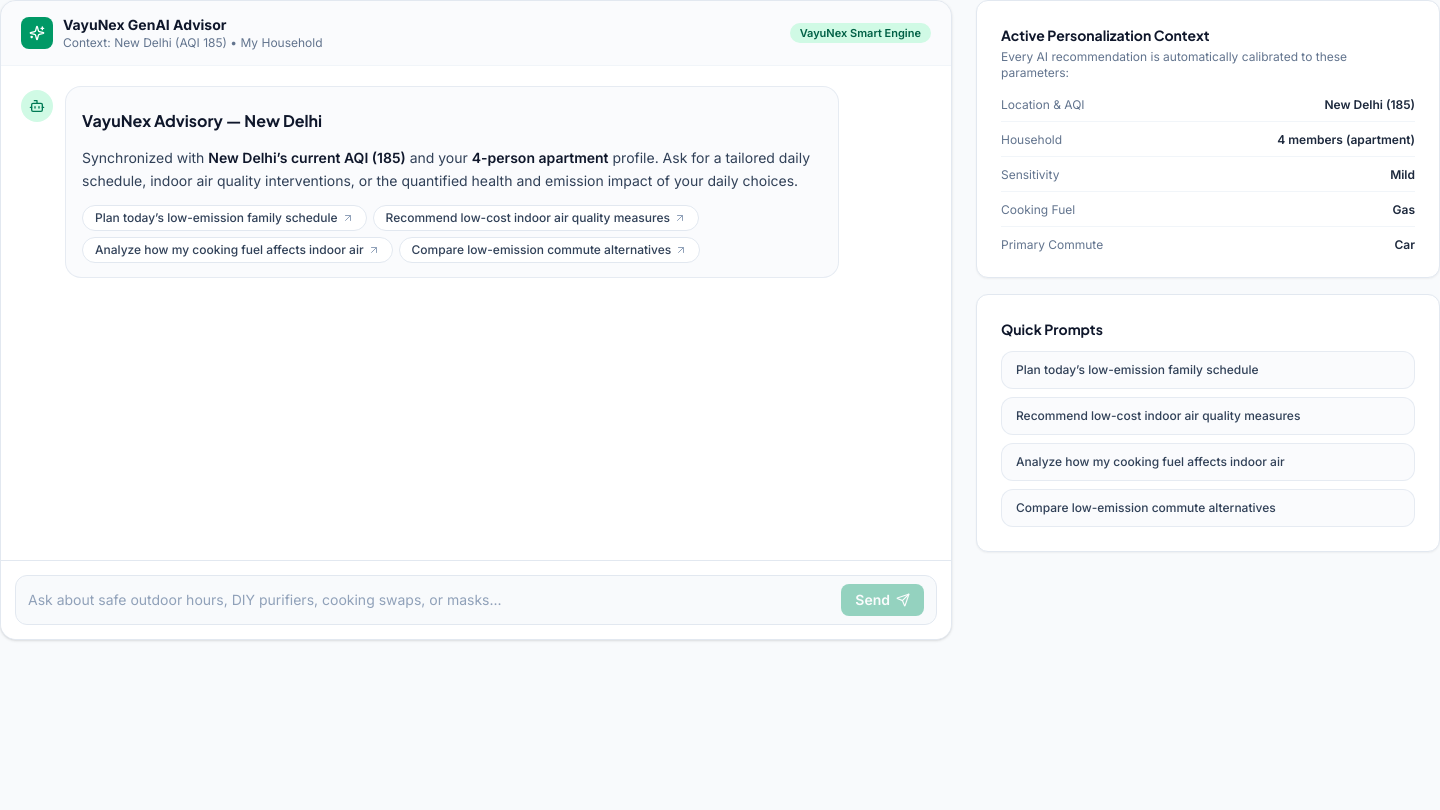
Scenario: Interactive UI Components › AiAssistant sends prompts and renders live impact cards
The width and height of the screenshot is (1440, 810).
expect the element named "Conversation history" is shown: met, box [21,86,838,278]
Type "Plan today routine for my family" into the field named "Ask VayuNex AI" at point(431, 600), box [28,590,833,610]
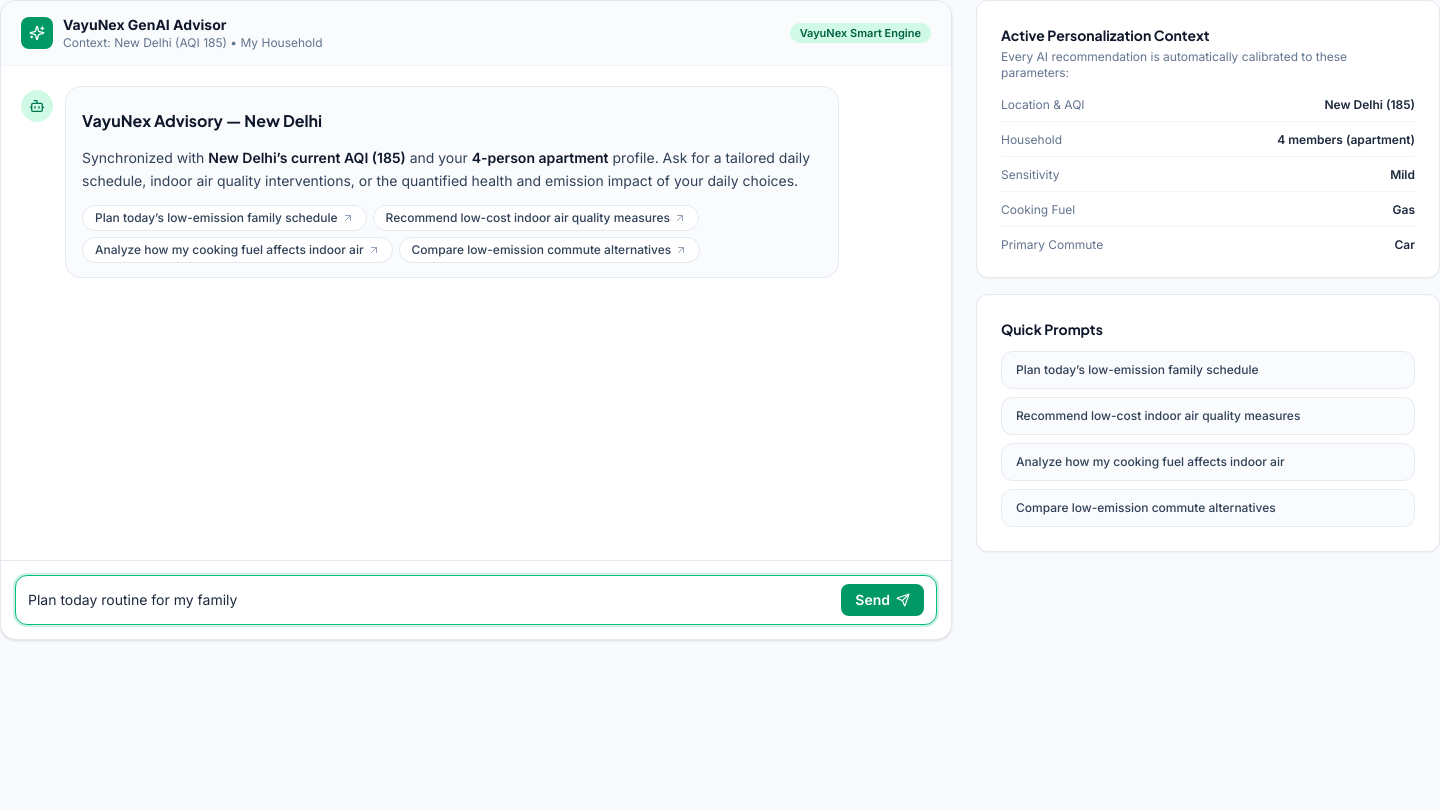
Click the button "Send" at point(883, 600), box [841,584,924,616]
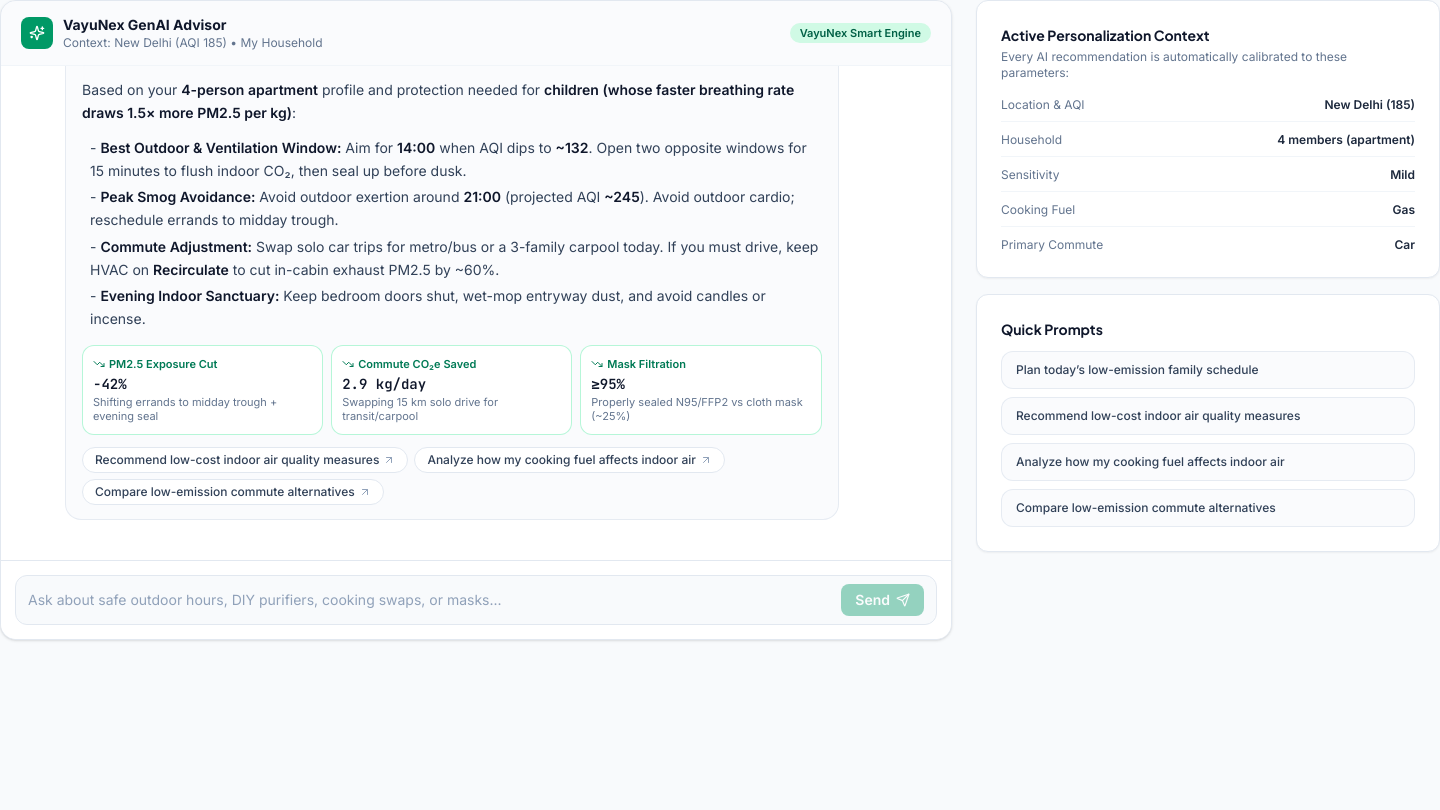
expect the text "PM2.5 Exposure Cut" is shown: met, box [93,357,217,371]
